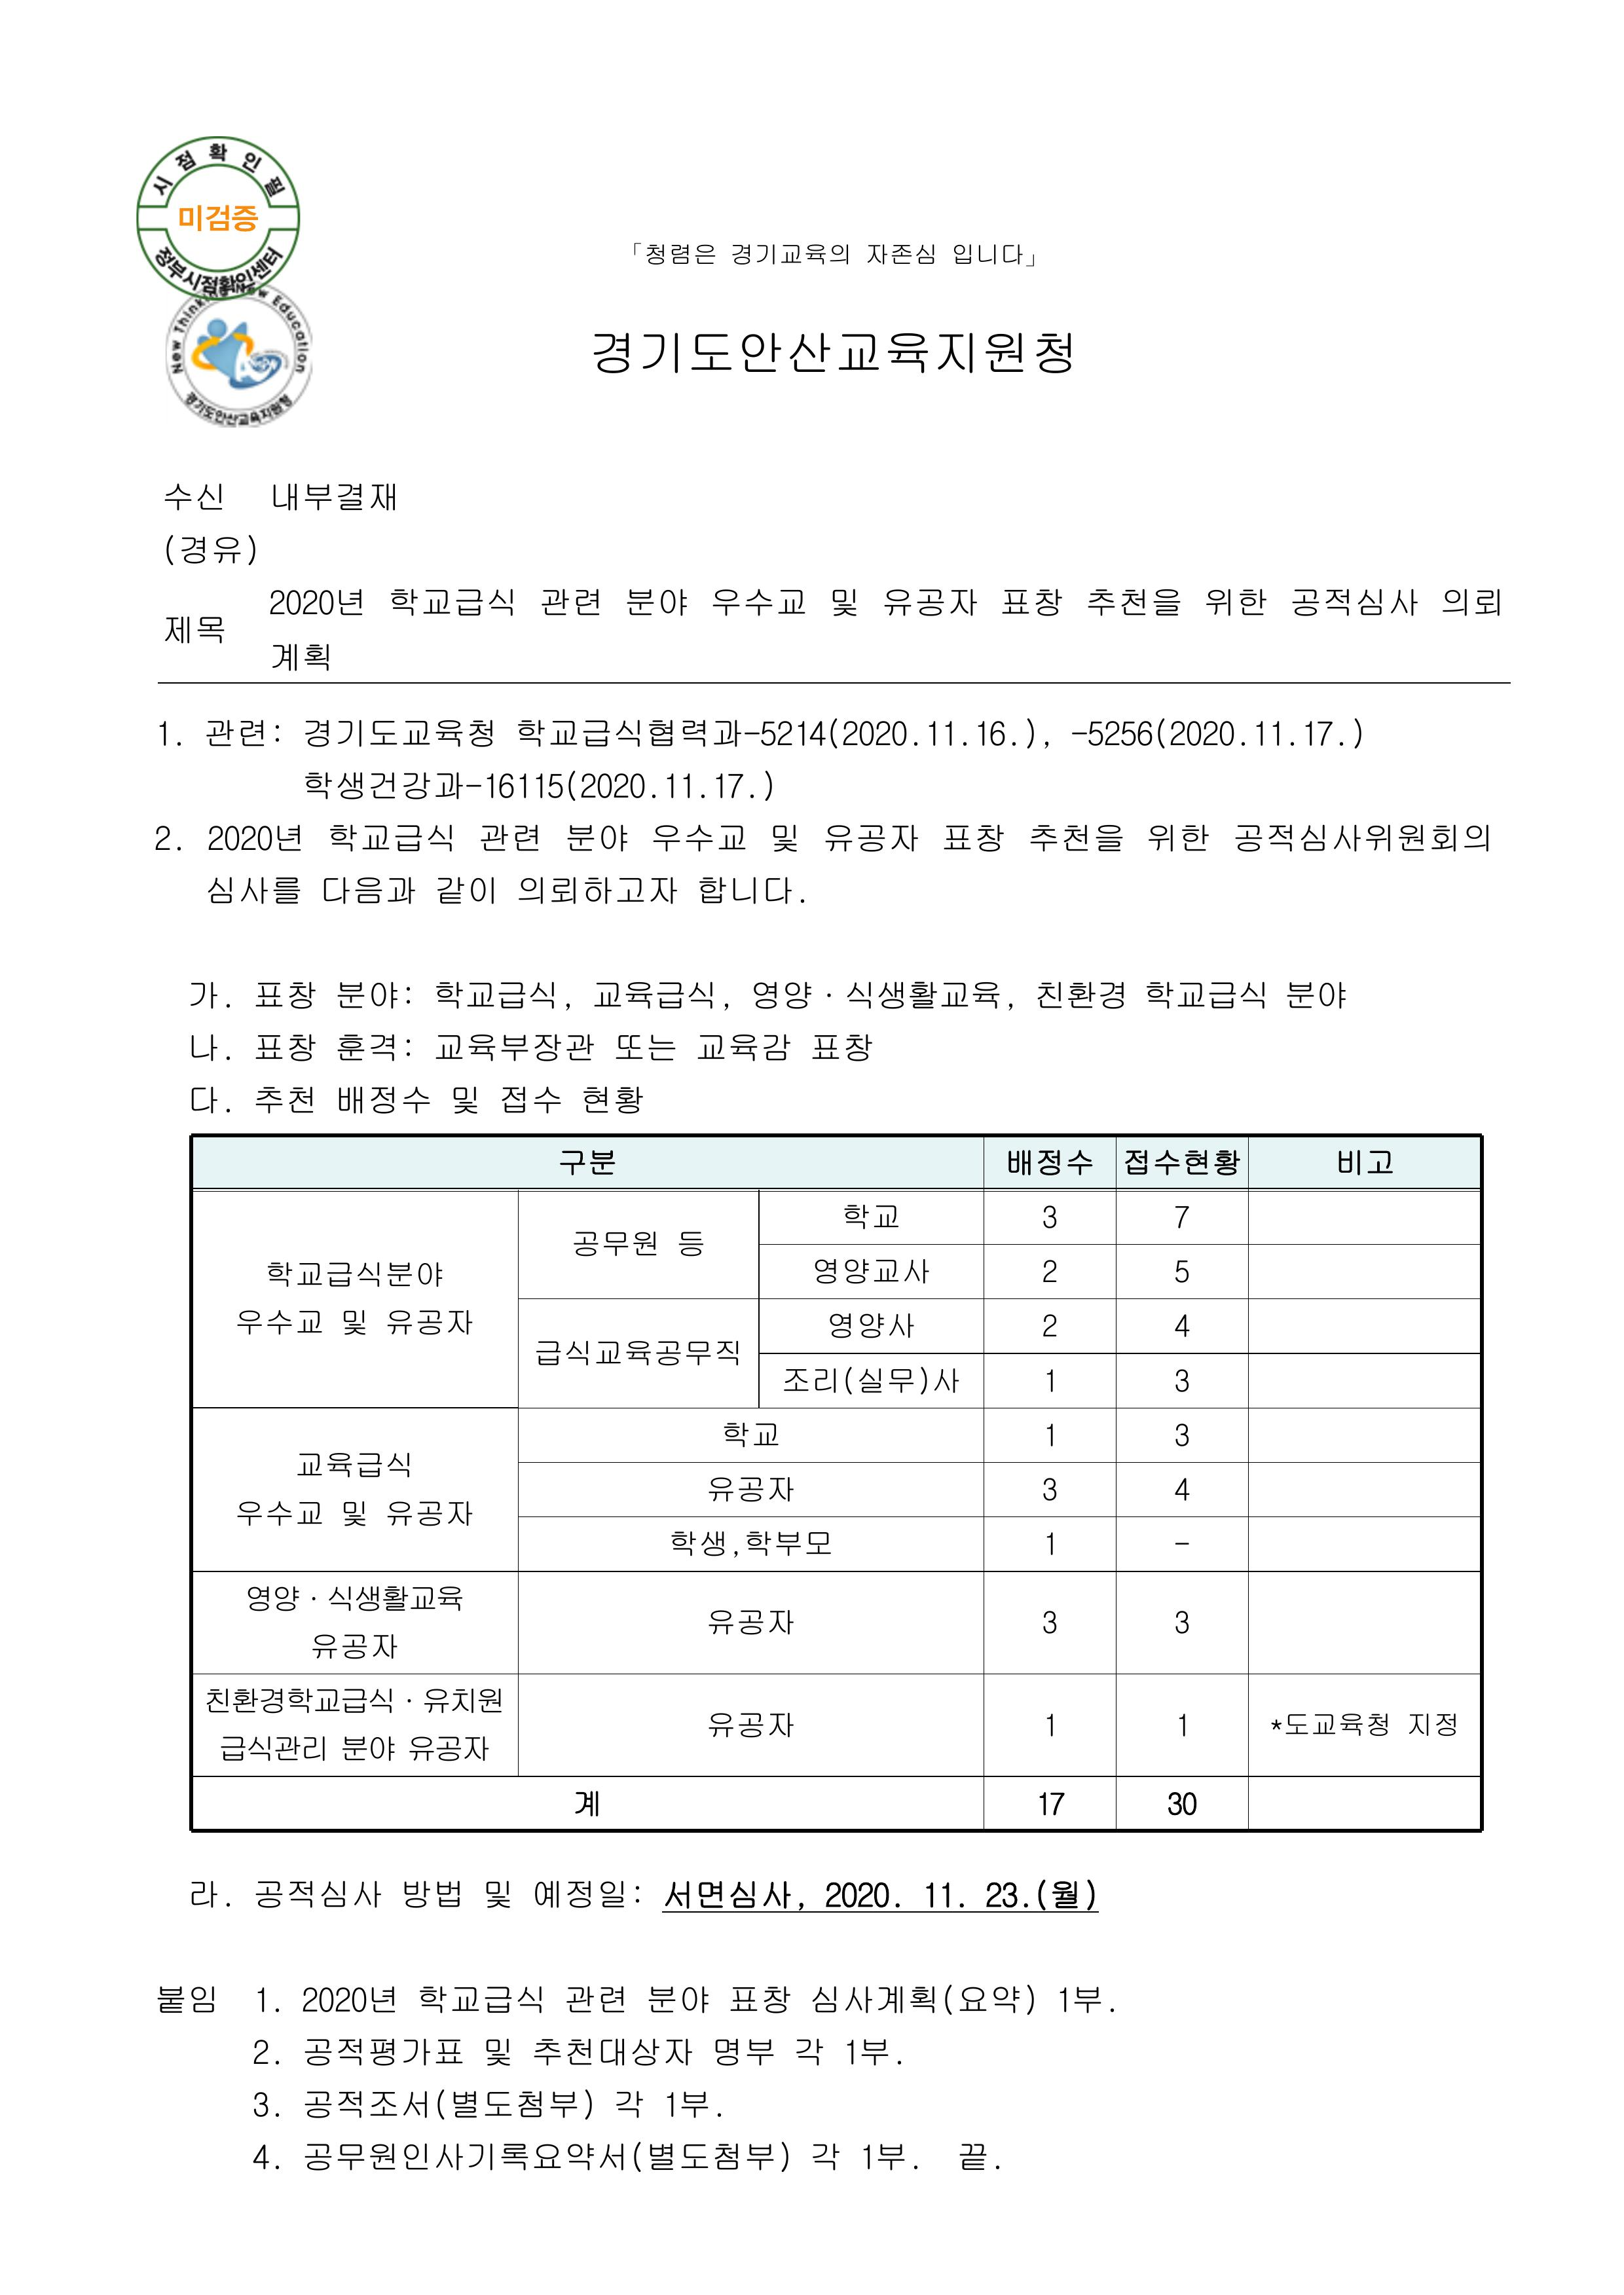t: (591, 329, 1075, 380), (301, 2137, 796, 2176), (301, 767, 663, 803), (301, 2087, 599, 2123), (1230, 817, 1492, 856), (807, 1979, 1036, 2019), (333, 1082, 570, 1118), (236, 1495, 473, 1531), (513, 713, 746, 749), (204, 1681, 419, 1717), (534, 1334, 739, 1370), (301, 713, 494, 749), (261, 1255, 448, 1291), (839, 975, 1007, 1014), (778, 1363, 961, 1398), (1082, 713, 1251, 749), (527, 2033, 699, 2068), (756, 713, 921, 749), (434, 1029, 599, 1065), (516, 871, 678, 907), (301, 2033, 466, 2068), (659, 1875, 800, 1915), (430, 975, 566, 1014), (591, 975, 724, 1014), (251, 1875, 383, 1915), (671, 1528, 832, 1560), (268, 477, 397, 516), (326, 817, 455, 856), (416, 1979, 545, 2019), (236, 1305, 377, 1341), (322, 1581, 462, 1617), (570, 1226, 706, 1262), (1287, 584, 1420, 620), (387, 584, 516, 620), (1140, 975, 1269, 1011), (1118, 1144, 1240, 1179), (659, 767, 774, 803), (530, 1875, 645, 1911), (810, 1255, 929, 1287), (695, 871, 803, 907), (788, 2033, 896, 2068), (1025, 817, 1122, 856), (807, 2137, 914, 2173), (294, 1448, 412, 1480), (265, 584, 365, 620), (710, 584, 810, 620), (319, 871, 419, 907), (219, 1732, 329, 1764), (649, 821, 749, 856), (821, 821, 921, 856), (1269, 1710, 1391, 1739), (161, 530, 258, 566), (882, 584, 979, 620), (1082, 584, 1179, 620), (204, 871, 301, 907), (695, 1029, 792, 1065), (383, 1305, 477, 1341), (1033, 975, 1126, 1011), (706, 1706, 796, 1742), (204, 821, 304, 853), (297, 1983, 397, 2015), (824, 1308, 918, 1341), (308, 1631, 401, 1664), (175, 200, 258, 236), (204, 713, 287, 749), (333, 1029, 416, 1065), (419, 1681, 502, 1717), (706, 1473, 796, 1506), (1004, 1147, 1094, 1179), (706, 1606, 796, 1638), (731, 244, 846, 268), (251, 975, 319, 1014), (749, 975, 817, 1014), (724, 1979, 792, 2019), (333, 979, 416, 1011), (409, 1732, 491, 1764), (434, 871, 498, 911), (821, 1879, 896, 1911), (623, 584, 692, 620), (997, 584, 1065, 620), (1201, 584, 1269, 620), (939, 817, 1007, 853), (1144, 817, 1212, 853), (251, 1029, 319, 1065), (807, 1029, 875, 1065), (397, 1875, 466, 1911), (1029, 1875, 1097, 1911), (563, 821, 631, 856), (645, 1979, 713, 2015), (710, 2033, 778, 2068), (538, 584, 602, 620), (613, 1029, 678, 1065), (577, 1082, 642, 1118), (251, 1079, 315, 1115), (563, 1979, 627, 2015), (268, 638, 329, 674), (1298, 717, 1366, 749), (642, 240, 717, 268), (953, 244, 1040, 268), (161, 613, 226, 645), (1283, 979, 1348, 1011), (337, 1732, 401, 1764), (659, 2087, 717, 2123), (1438, 584, 1502, 616), (477, 821, 541, 853), (244, 1581, 308, 1613), (164, 480, 226, 513), (157, 1983, 219, 2015), (555, 1147, 616, 1179), (1054, 1983, 1108, 2019), (864, 244, 939, 268), (1334, 1147, 1395, 1176), (839, 1201, 900, 1230), (720, 1420, 781, 1448), (1247, 717, 1301, 749), (186, 1029, 232, 1065), (982, 1879, 1033, 1911), (918, 1879, 968, 1911), (921, 717, 972, 749), (1402, 1710, 1456, 1739), (190, 1082, 236, 1115), (186, 1875, 226, 1911), (186, 979, 229, 1011), (610, 2087, 652, 2119), (480, 2033, 516, 2068), (972, 717, 1011, 749), (480, 1875, 513, 1911), (767, 821, 800, 856), (957, 2140, 993, 2173), (570, 1786, 602, 1818), (828, 584, 857, 620), (1022, 720, 1054, 749), (1165, 1789, 1198, 1818), (154, 824, 179, 853), (254, 2036, 276, 2068), (254, 2090, 276, 2119), (254, 2144, 276, 2173), (258, 1987, 280, 2015), (1040, 1205, 1061, 1230), (157, 724, 179, 746)
